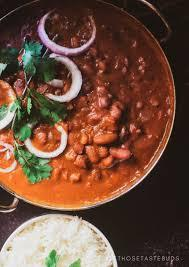rajma: (0, 8, 180, 197)
